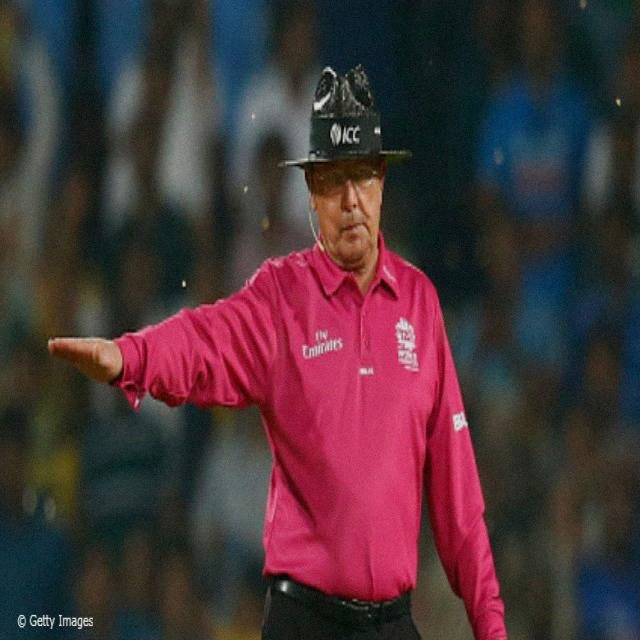No_Ball: (36, 44, 511, 640)
